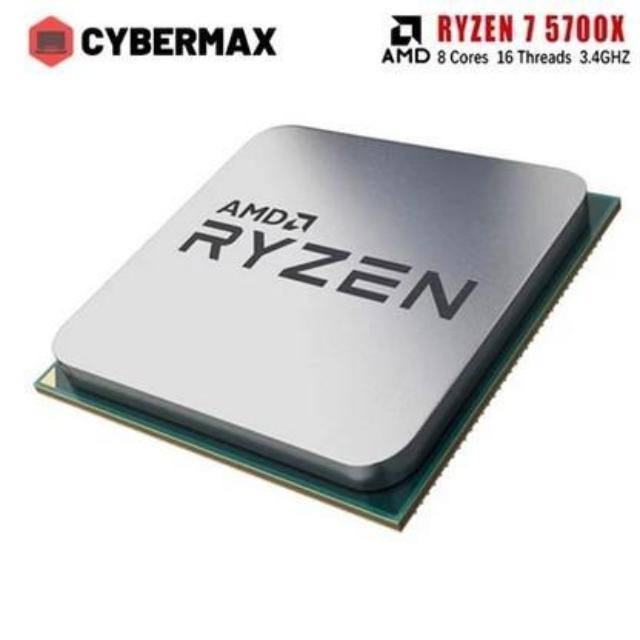CPU: (36, 120, 610, 526)
